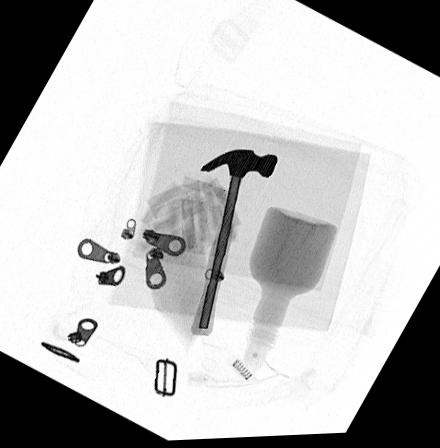Hammer: (189, 150, 278, 337)
